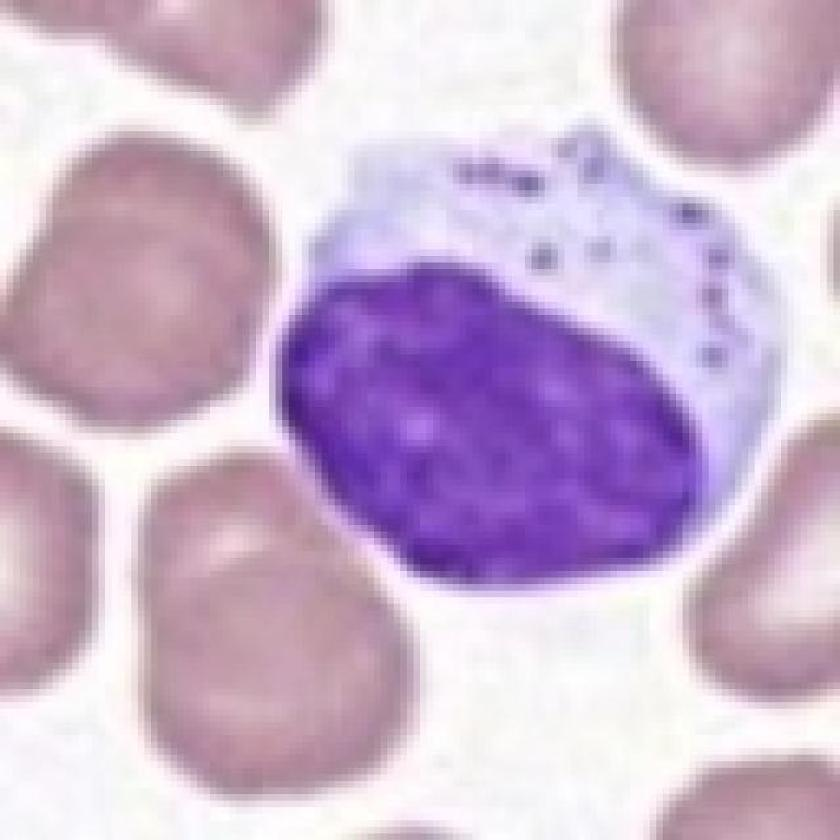lymphocyte: (277, 117, 794, 608)
